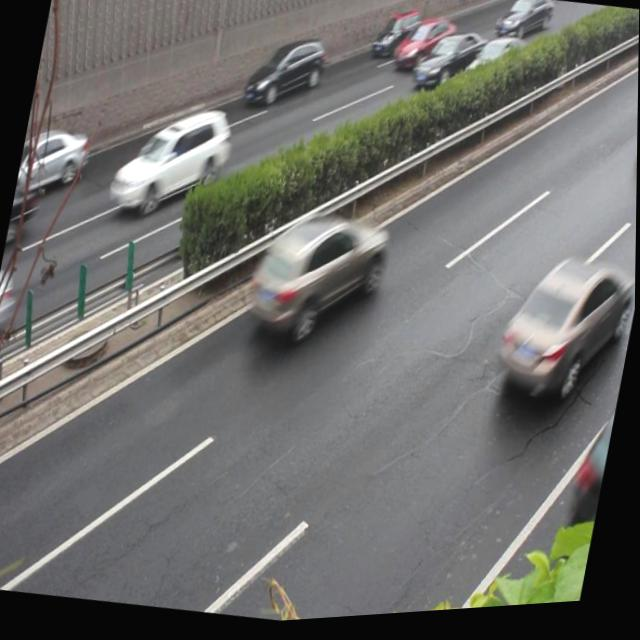car: (490, 250, 637, 419), (242, 204, 392, 361), (108, 101, 232, 228), (241, 33, 325, 120), (14, 120, 92, 207)
